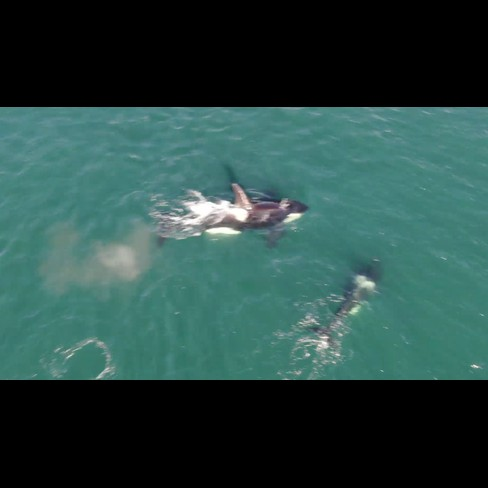orca: (129, 178, 318, 252), (305, 252, 395, 364)
